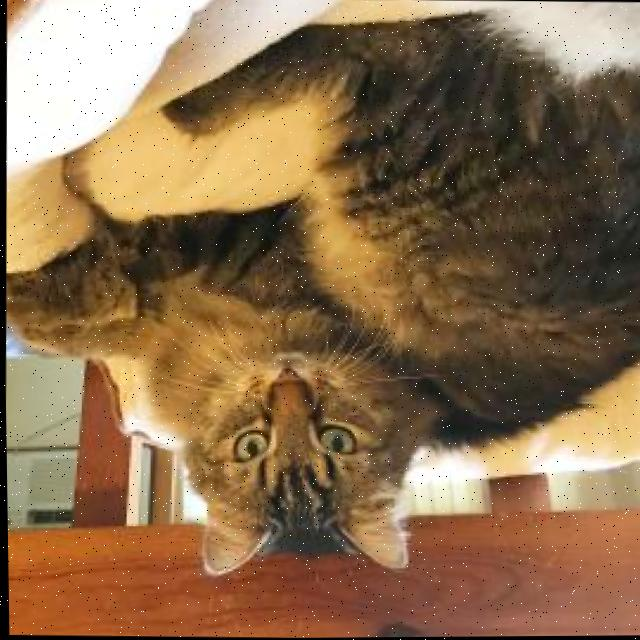Maine Coon: (0, 0, 640, 585)
